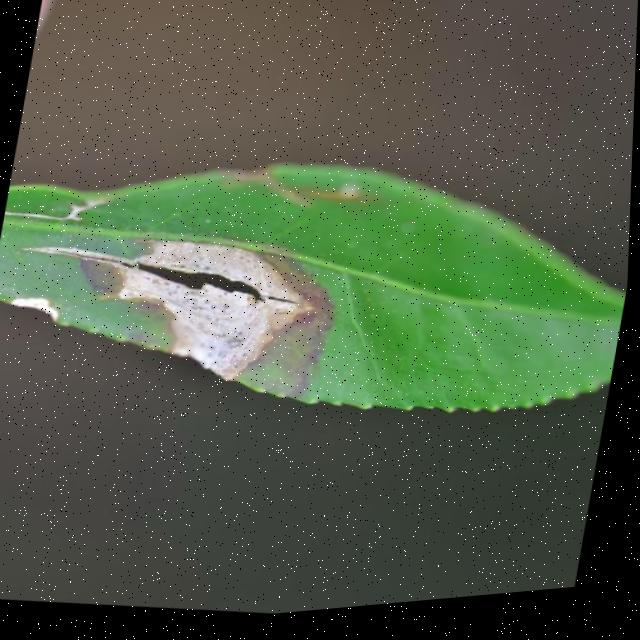Tea cloud leaf blight: (80, 221, 351, 409)
